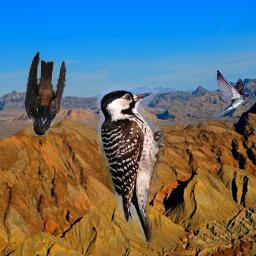Swallow: (24, 51, 66, 136), (211, 70, 251, 117)
Woodpecker: (97, 86, 165, 247)
